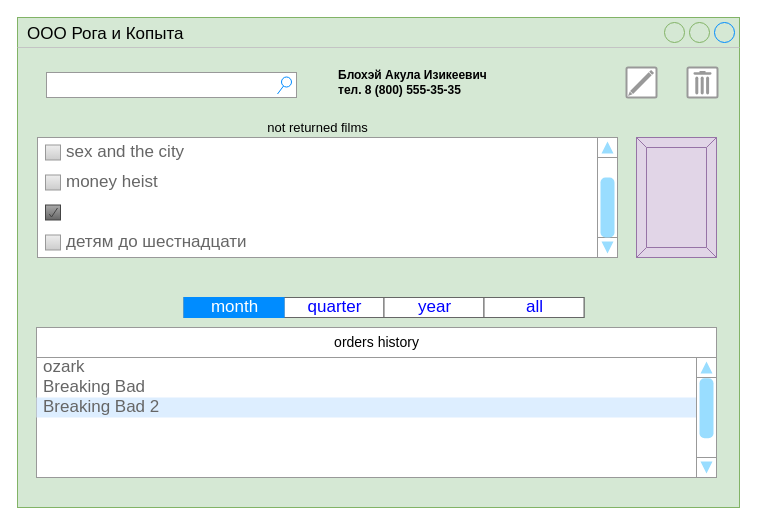
Some shapes in this 757 by 525 pixel diagram are drawn without their labels. The shapes that lost their labels are listed below. From the top down, each one's centre as x and y in pixels, then its label:
At point (171, 85): "get film".
At point (52, 212): "unsere mütter, unsere väter".
At point (676, 197): "return selected".
